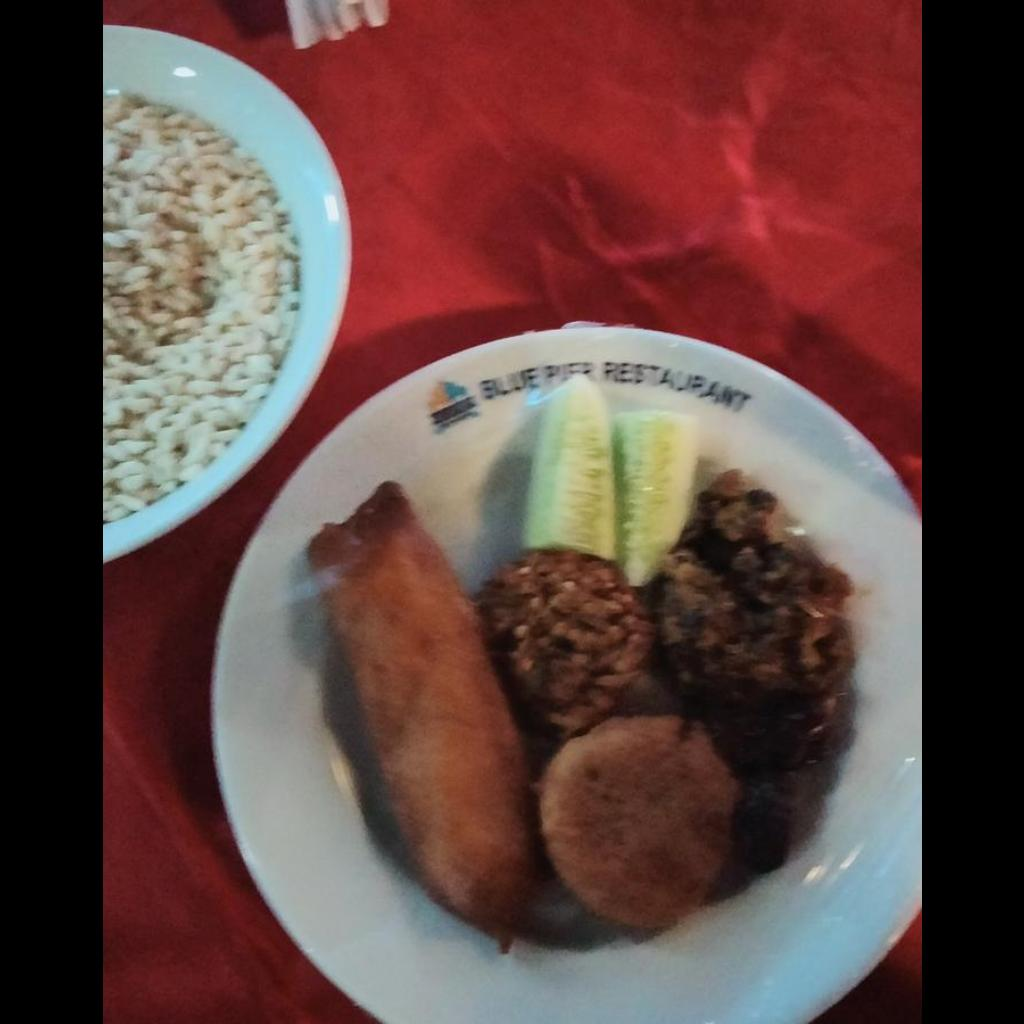beguni: (326, 483, 533, 947)
chop-alu: (546, 720, 728, 937)
cucumber: (519, 375, 699, 582)
peyaju: (470, 481, 861, 715)
puffed-rice: (102, 97, 285, 516)
